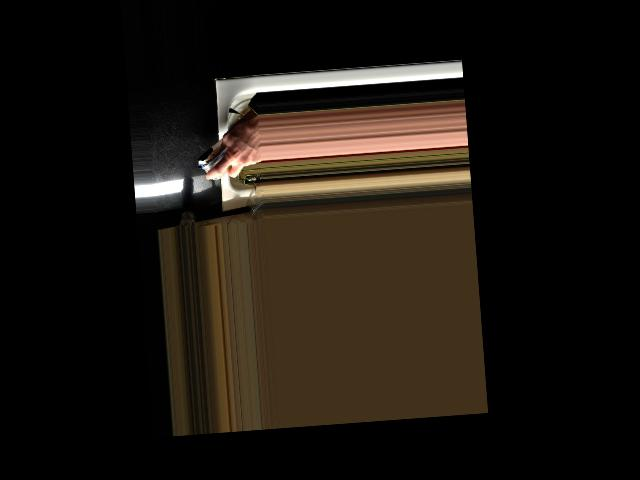cheese: (193, 127, 259, 178)
